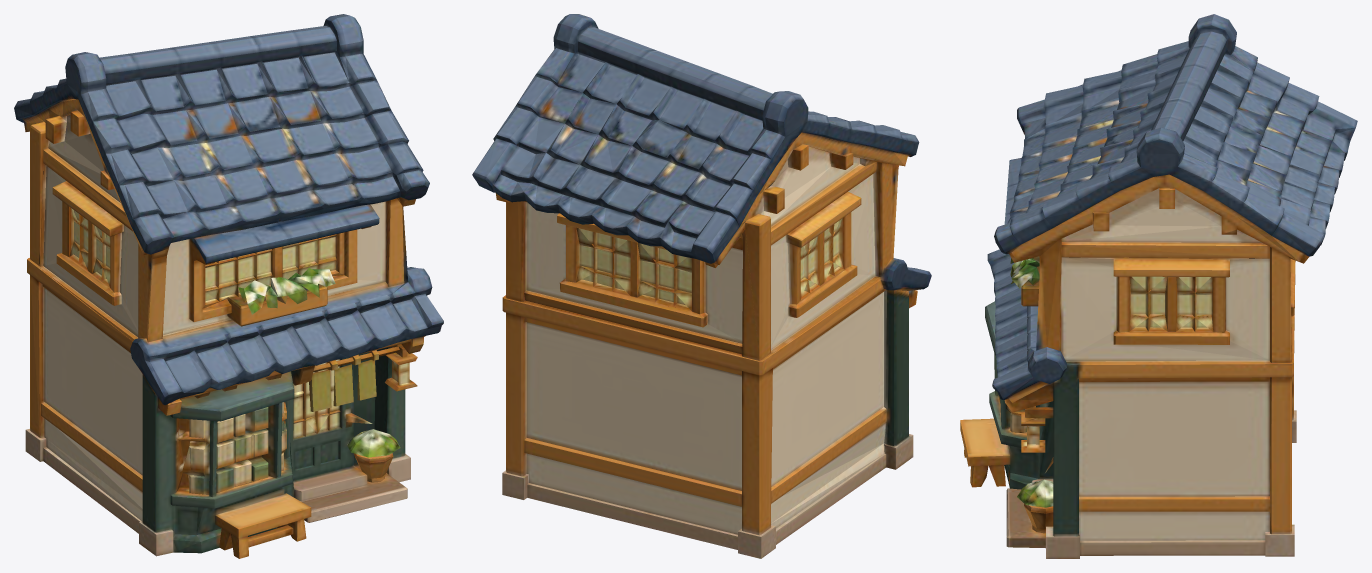
File: books-DHzAjlER.glb
The picture shows the model from 3 angles, left to right: view 1: azimuth 30°, elevation 25°; view 2: azimuth 150°, elevation 25°; view 3: azimuth 270°, elevation 25°; orthographic projection.
Parts seen in each view (by area): view 1: tripo_node_e519f502-61b0-4456-be5b-0c1fd8284845; view 2: tripo_node_e519f502-61b0-4456-be5b-0c1fd8284845; view 3: tripo_node_e519f502-61b0-4456-be5b-0c1fd8284845.
Part boxes in pixels (x1,y1,x2,y2): tripo_node_e519f502-61b0-4456-be5b-0c1fd8284845: [14, 14, 443, 558]; tripo_node_e519f502-61b0-4456-be5b-0c1fd8284845: [472, 14, 931, 558]; tripo_node_e519f502-61b0-4456-be5b-0c1fd8284845: [960, 14, 1357, 558].
Size of the model in its own units: 0.706 by 0.9777 by 0.8323.
Materials: 1 (1 with a texture image).
